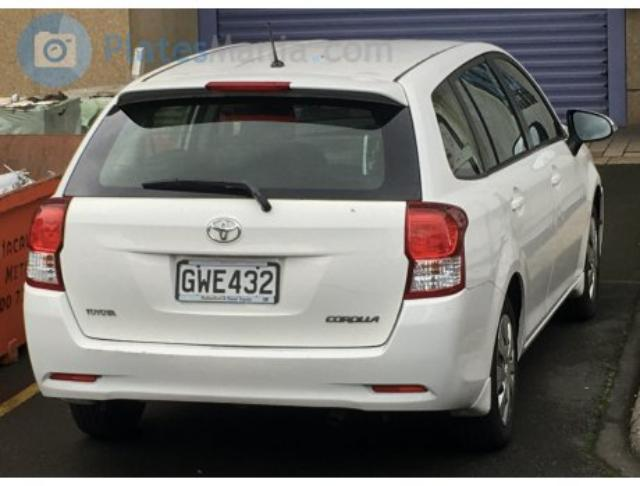Rego: (175, 262, 280, 306)
